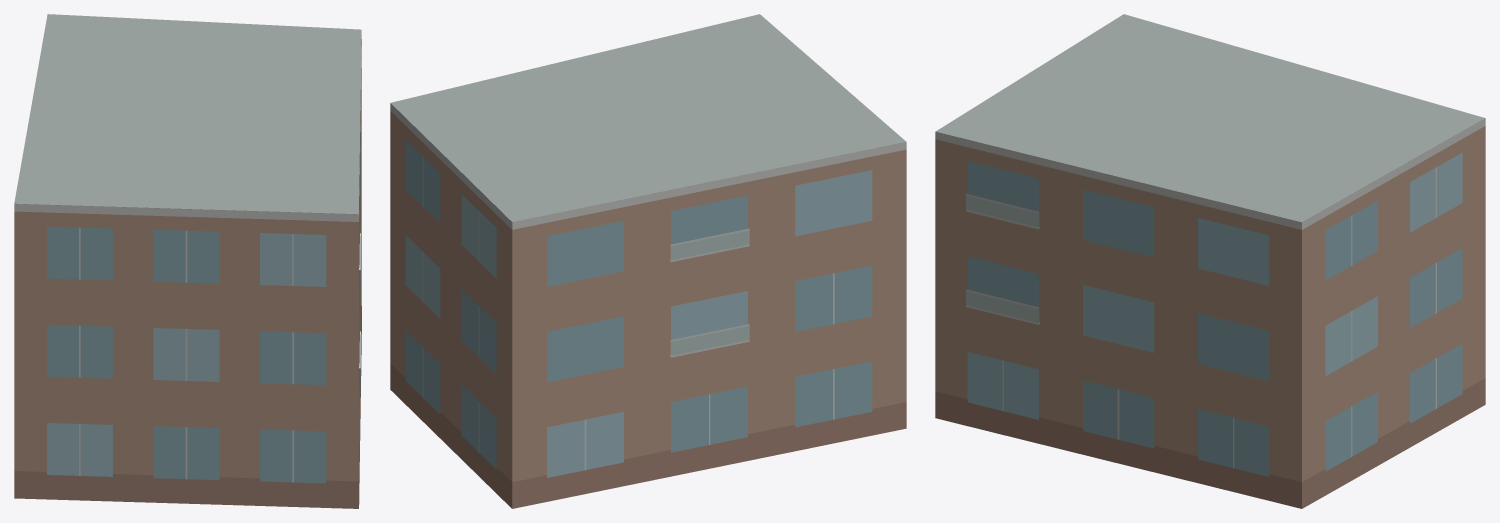
File: survey-upis-32895523.glb
3 views of the same model, side by side, from view 1: azimuth 30°, elevation 25°; view 2: azimuth 150°, elevation 25°; view 3: azimuth 270°, elevation 25° (orthographic). The views are drawn at different scales.
Visible parts, largest first — view 1: survey-upis-32895523.tmp; view 2: survey-upis-32895523.tmp; view 3: survey-upis-32895523.tmp.
Part boxes in pixels (<box>): survey-upis-32895523.tmp: <box>14,14,361,508</box>; survey-upis-32895523.tmp: <box>390,14,906,508</box>; survey-upis-32895523.tmp: <box>935,14,1485,508</box>.
Bounding box in the file's own units: 14.28 × 9.15 × 15.93.
